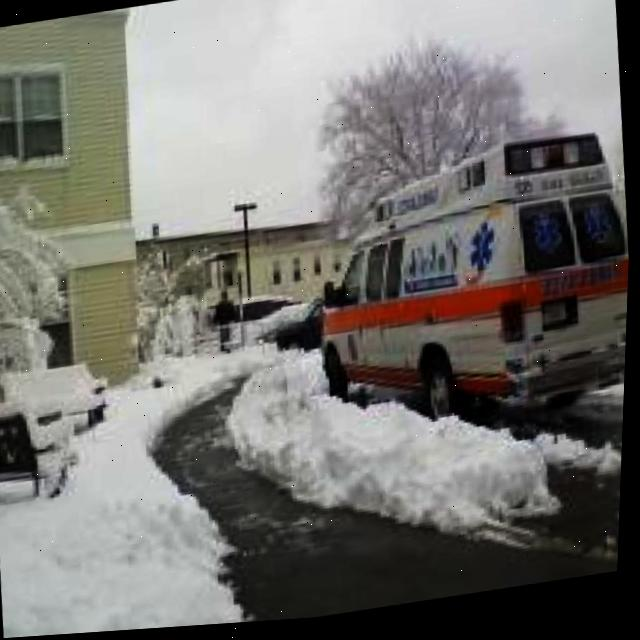emergency: (300, 130, 635, 450)
